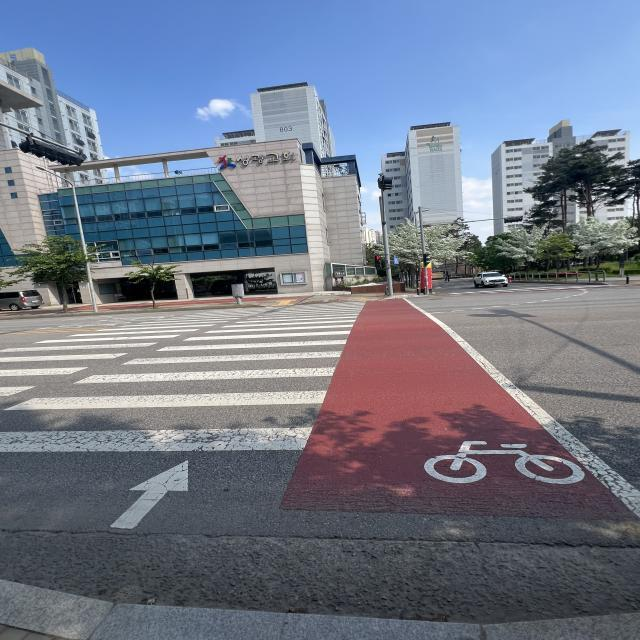crosswalk: (1, 278, 557, 532)
red-light: (371, 251, 388, 274)
